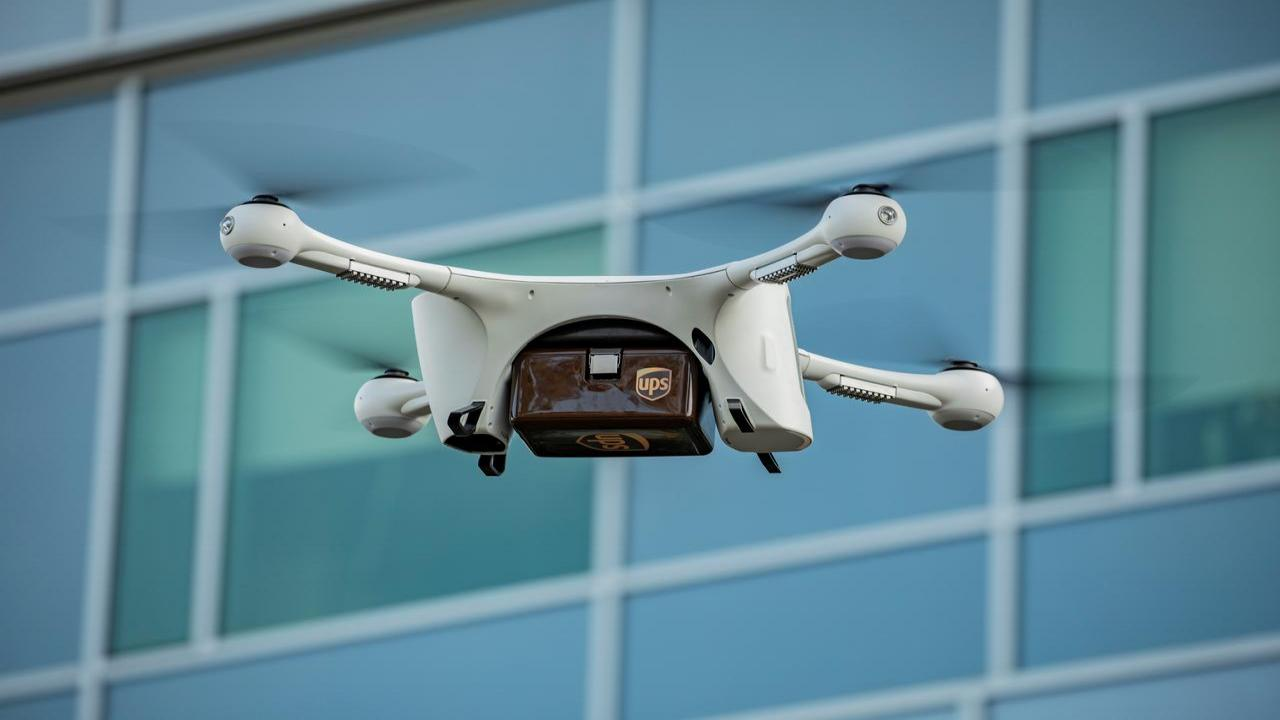Drone: (52, 108, 1204, 487)
